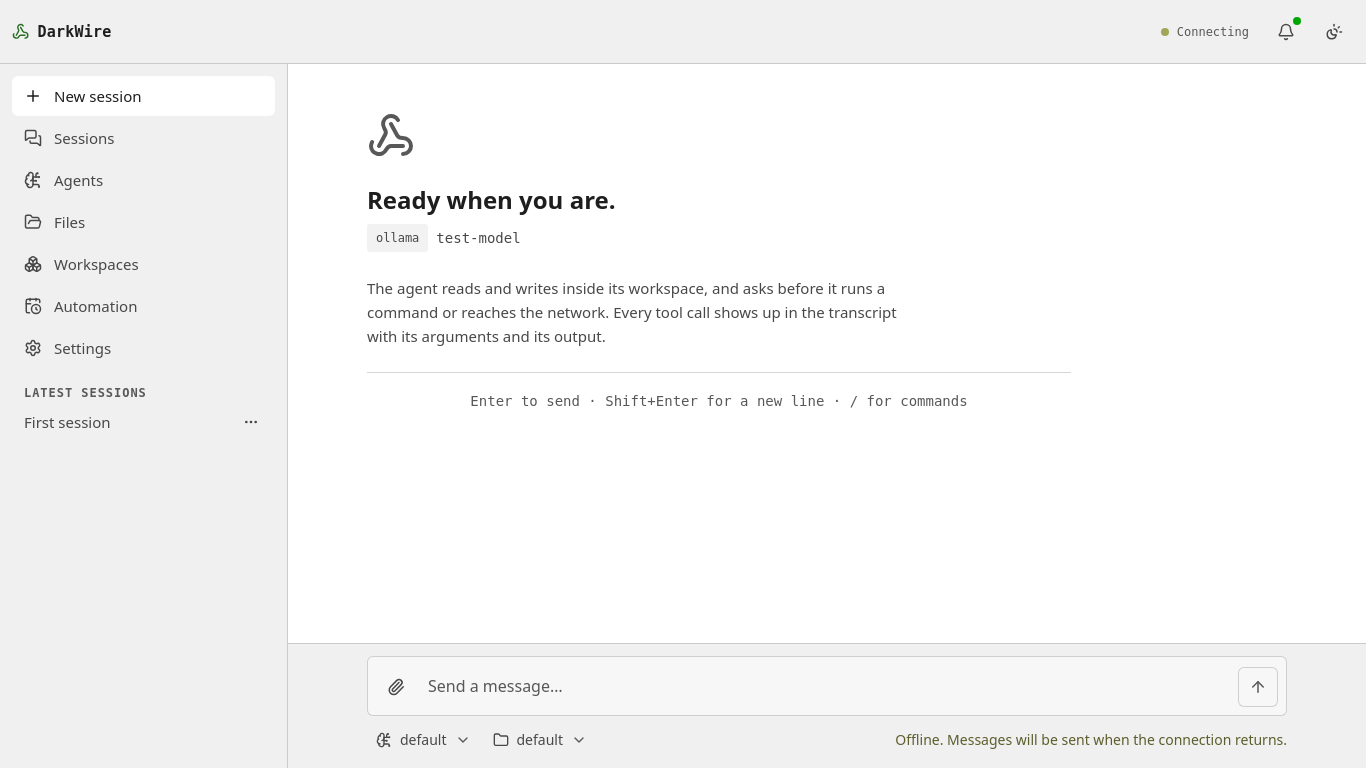
Test: the shell › opens recent notifications from the header, with a way to the full list
The width and height of the screenshot is (1366, 768).
Click the button named "Notifications": (1286, 32) [1266,12,1306,52]
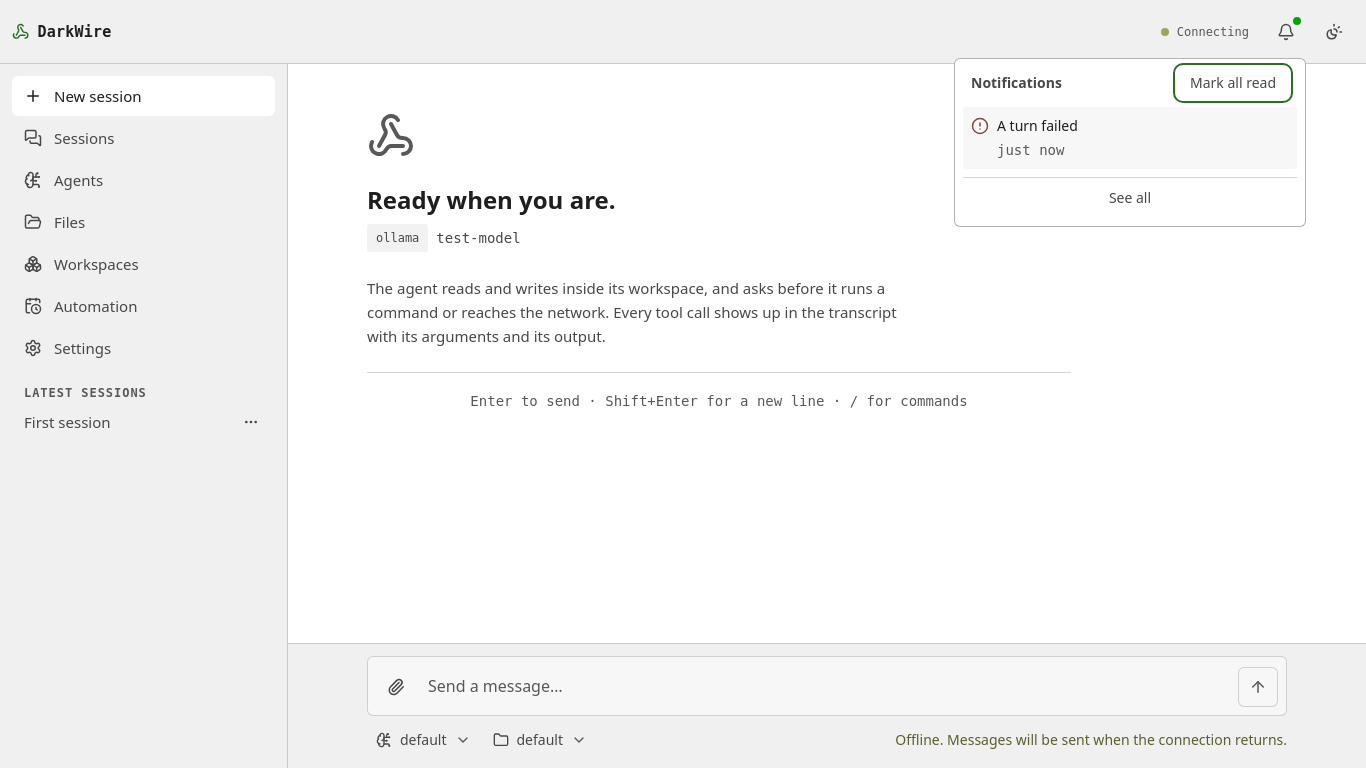
Expected: the text "A turn failed" is shown, [997,116,1078,135]
